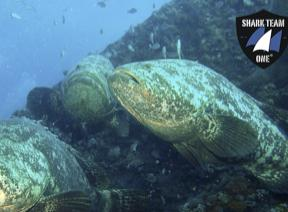Serranidae -Groupers-: (107, 56, 288, 196), (0, 107, 140, 212), (28, 37, 110, 128)
